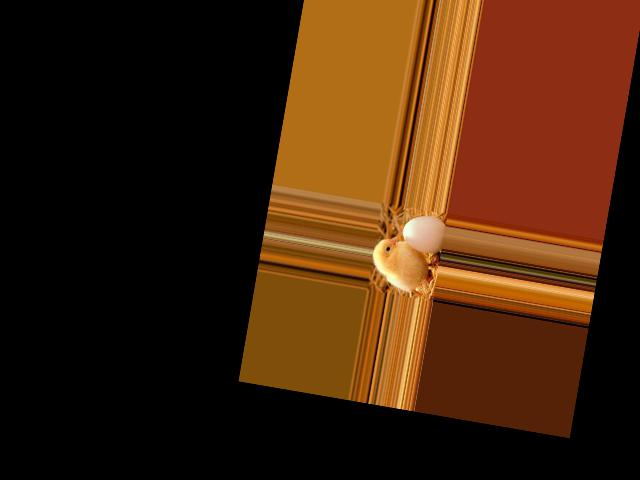egg: (400, 212, 447, 256)
